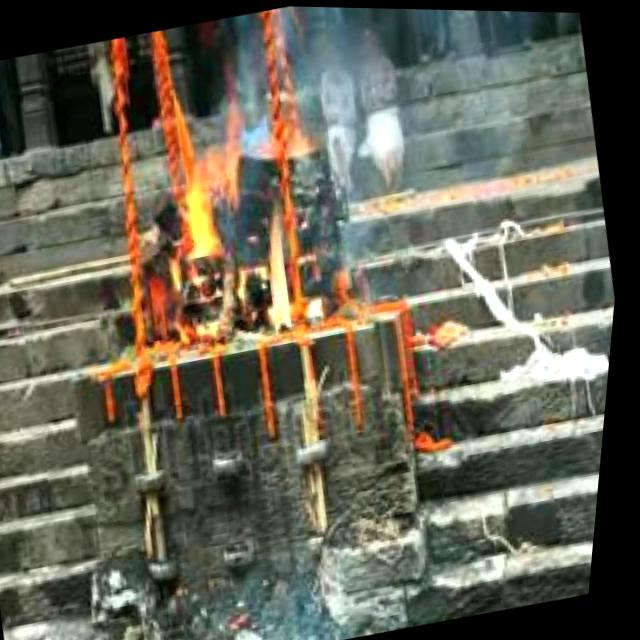fire: (160, 100, 328, 348)
